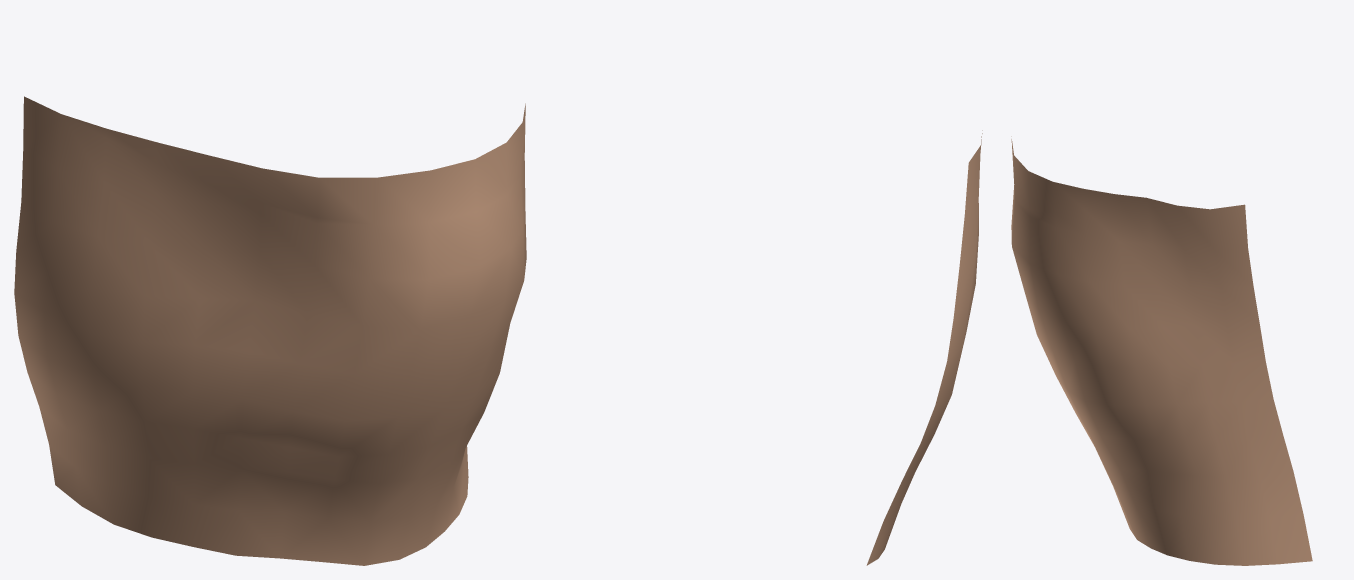
Rendered from anterior-region-of-knee-l.glb.
3 renders of one model, left to right at view 1: azimuth 30°, elevation 25°; view 2: azimuth 150°, elevation 25°; view 3: azimuth 270°, elevation 25°, orthographic. The views are drawn at different scales.
Parts seen in each view (by area): view 1: Anterior region of knee.l; view 2: Anterior region of knee.l; view 3: Anterior region of knee.l.
Boxes of the visible parts, bbox=[...] form: Anterior region of knee.l: bbox=[14, 96, 526, 565]; Anterior region of knee.l: bbox=[866, 130, 982, 565]; Anterior region of knee.l: bbox=[1011, 136, 1312, 565].
Size of the model in its own units: 0.1236 by 0.1262 by 0.0948.
